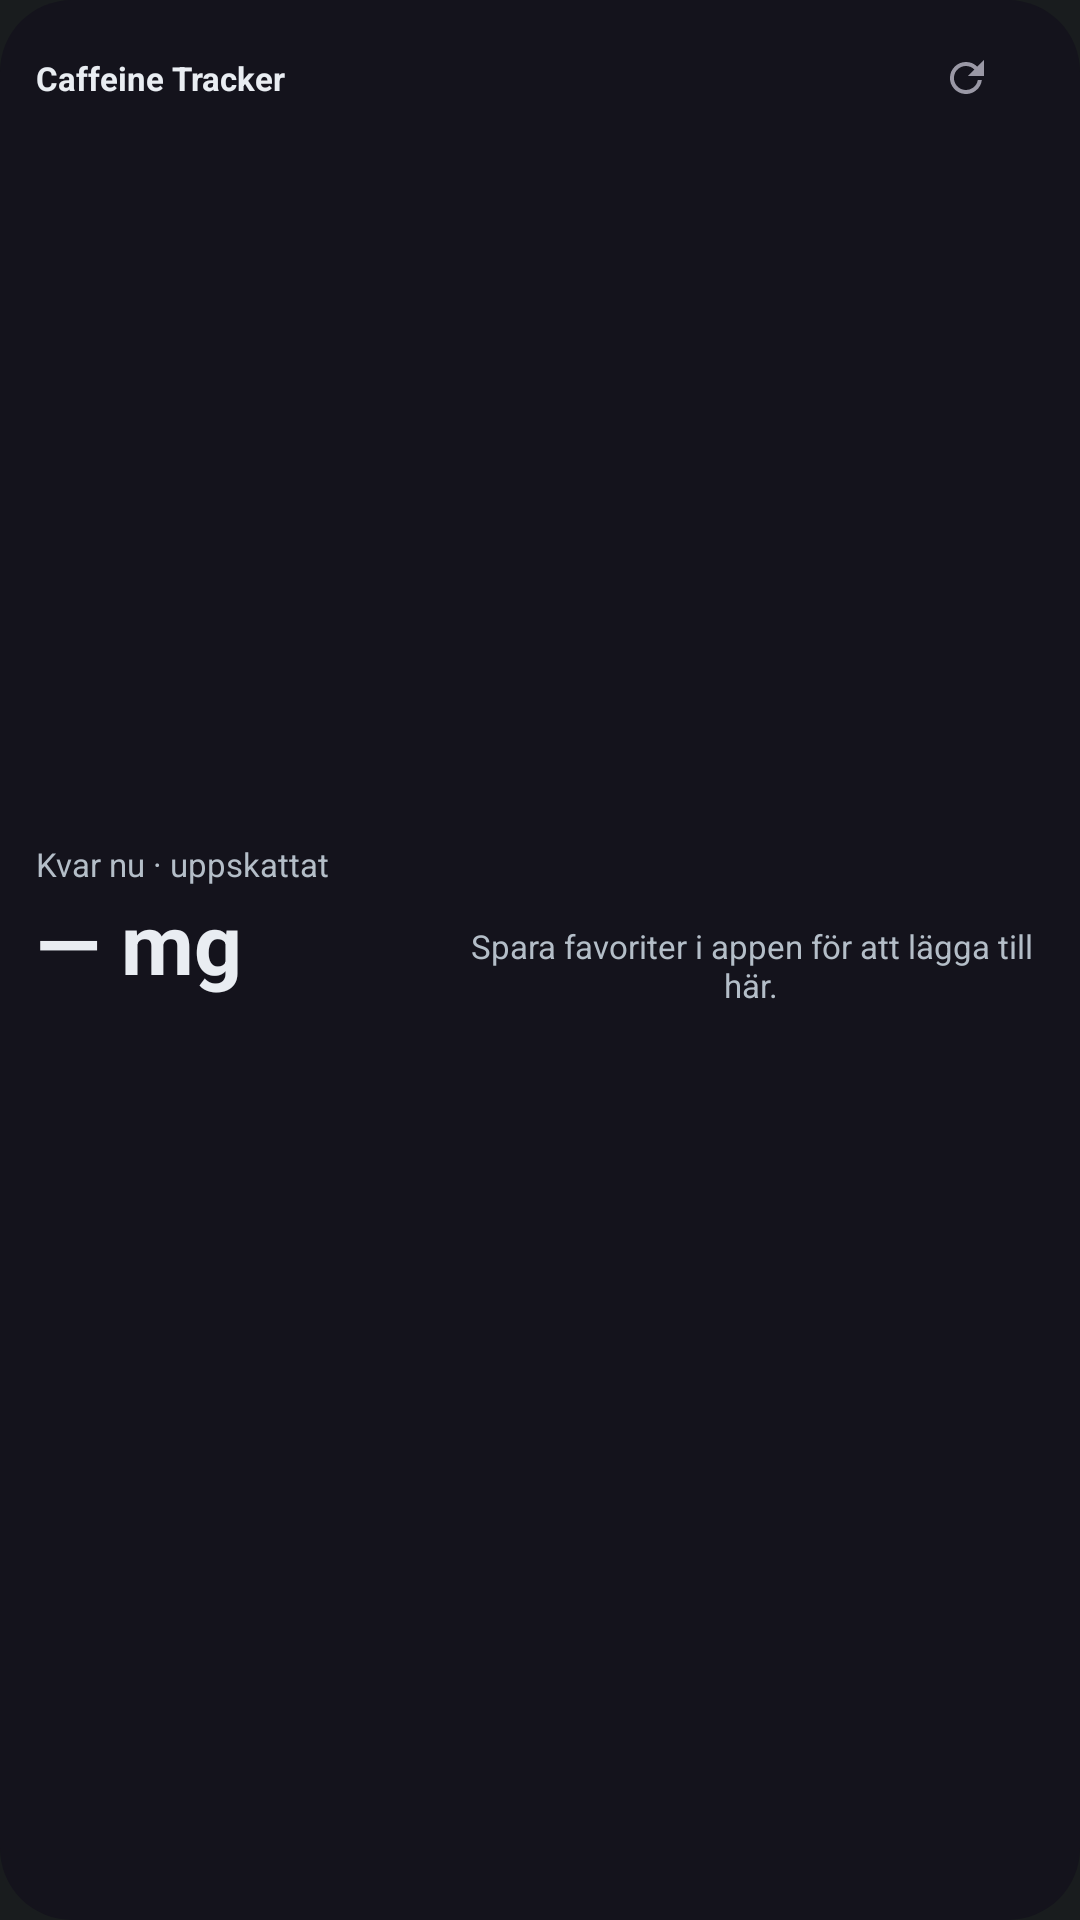

Point at icon controls on the screen. Image size 1080*1920, points as [x,y].
widget refresh: [967,77]
